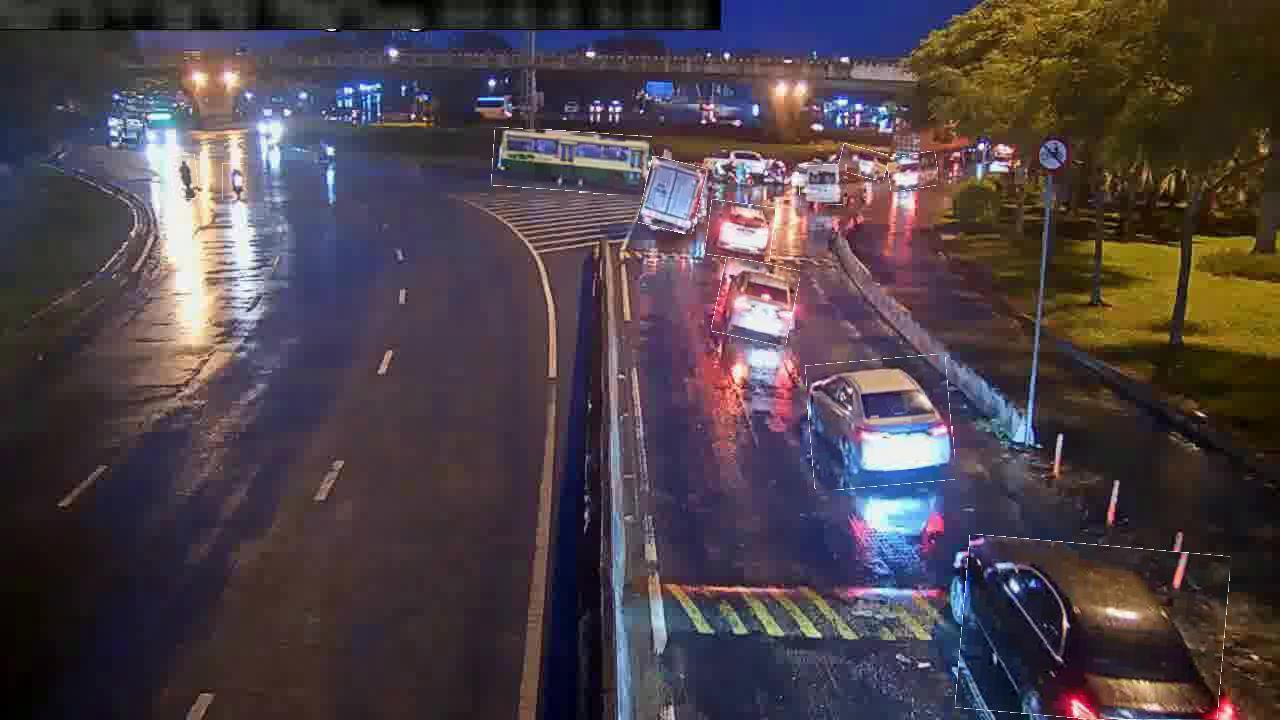14: (492, 130, 653, 194), (800, 164, 848, 206)
8: (640, 159, 704, 233)
container: (958, 539, 1228, 719), (808, 357, 954, 489), (715, 259, 798, 343), (706, 201, 775, 260), (887, 153, 938, 191), (839, 146, 888, 179)
motorbike: (171, 155, 198, 200), (222, 163, 245, 200)
